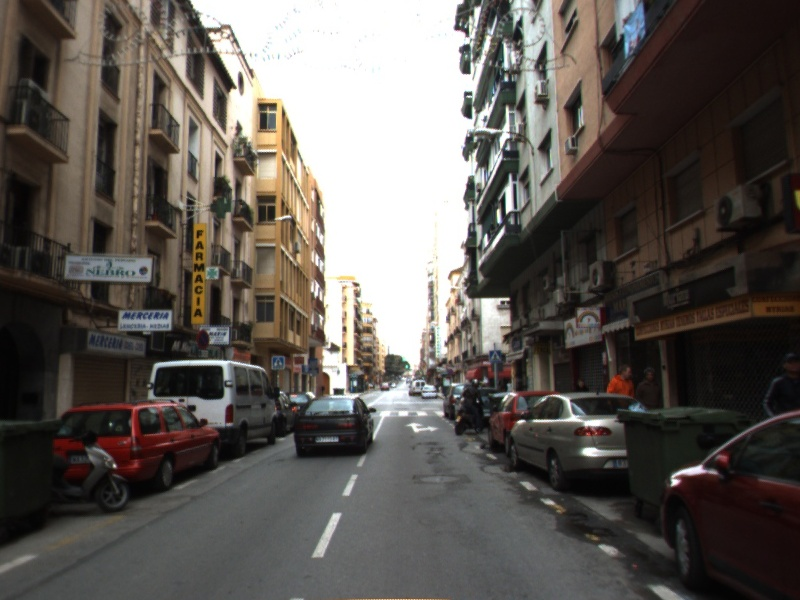STRAIGHT_RIGHT: (403, 421, 441, 434)
